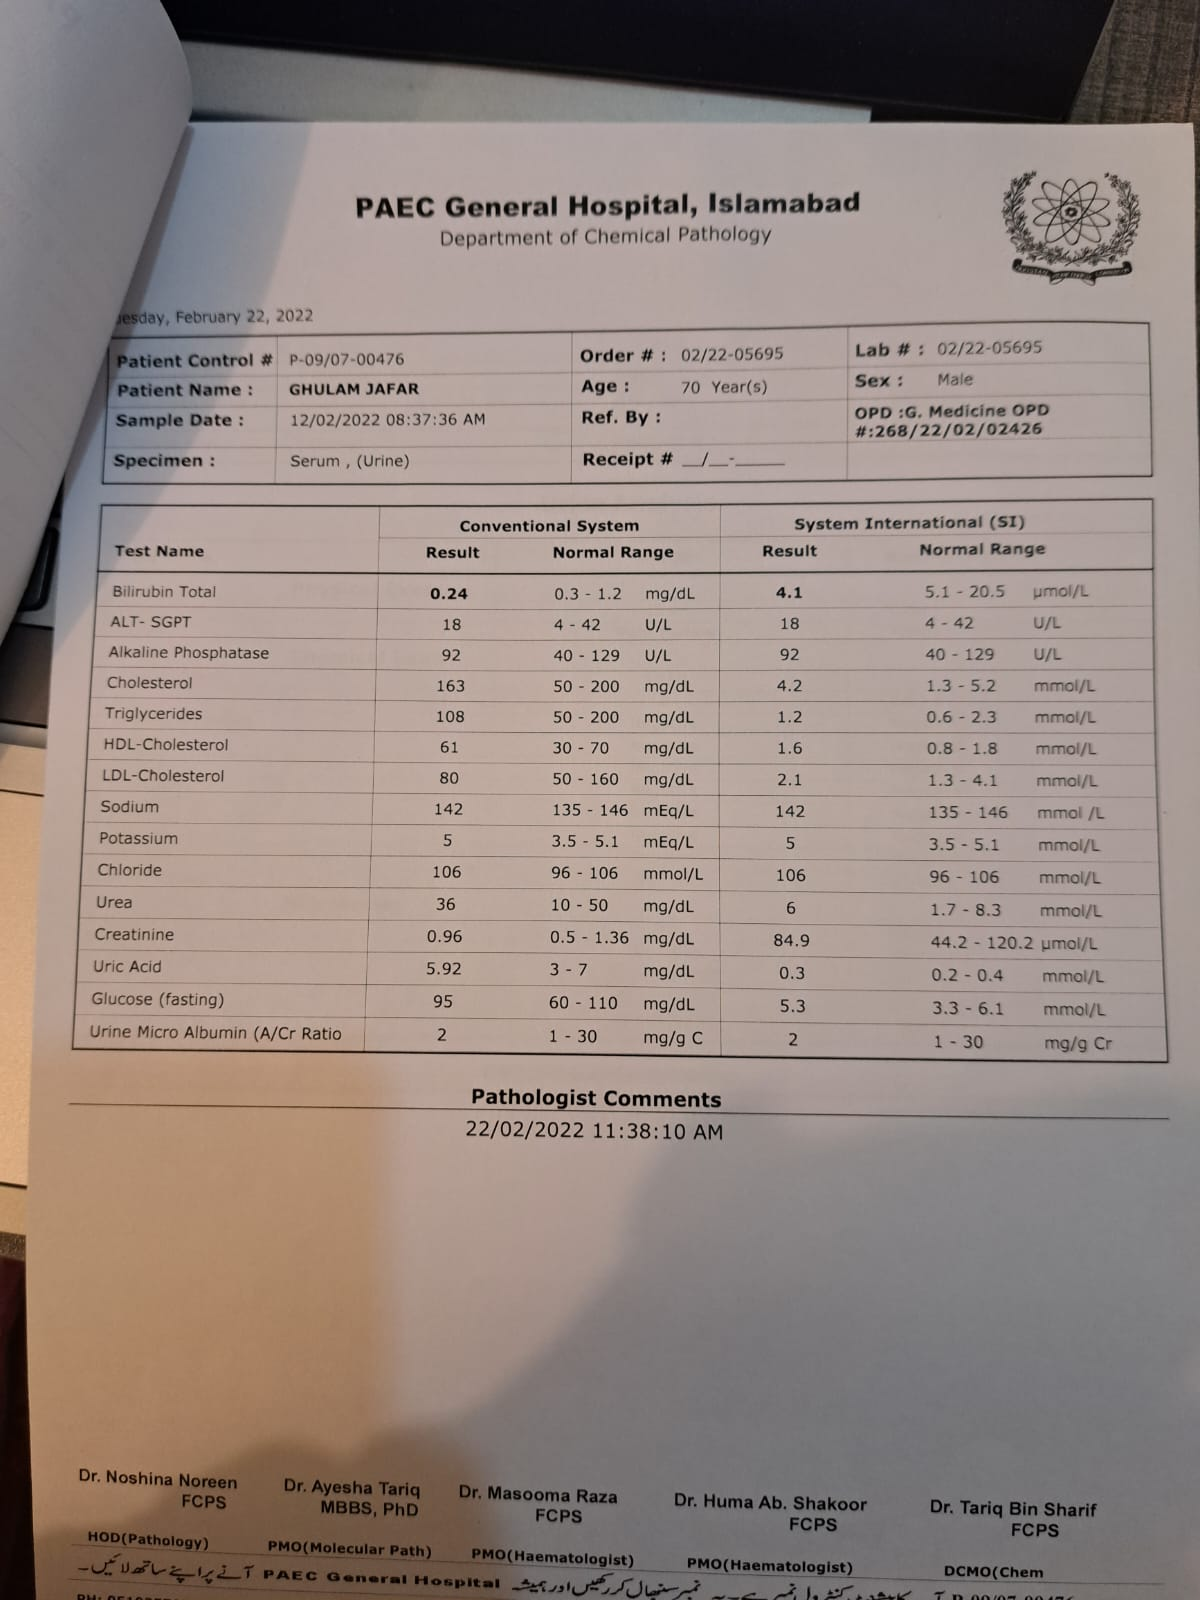report: (67, 496, 1187, 1071)
